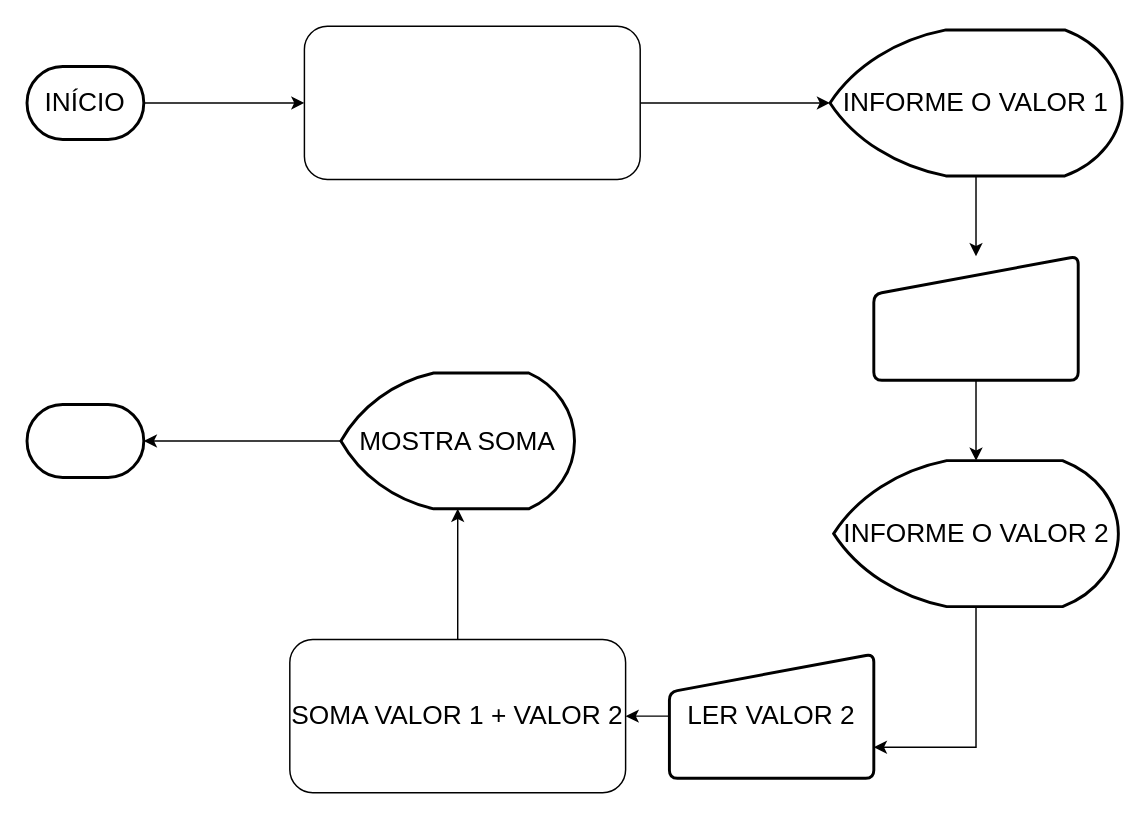
The diagram is 1148 pixels wide and 818 high, and some of its shapes have lost their labels. The box of each missing label's shape, as (x1, y1, x2, y2) in pixels:
DECLARAR VALOR 1, VALOR 2 E SOMA COMO INTEIROS: (303, 25, 640, 180)
FIM: (25, 402, 145, 478)
LER VALOR 1: (872, 254, 1079, 381)
